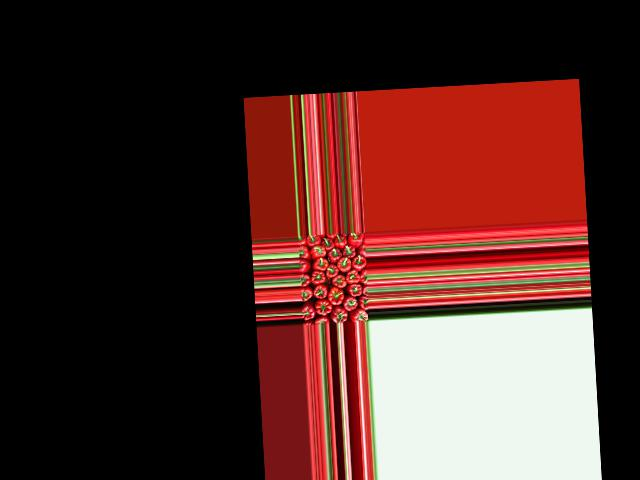bell_pepper: (349, 232, 364, 247)
